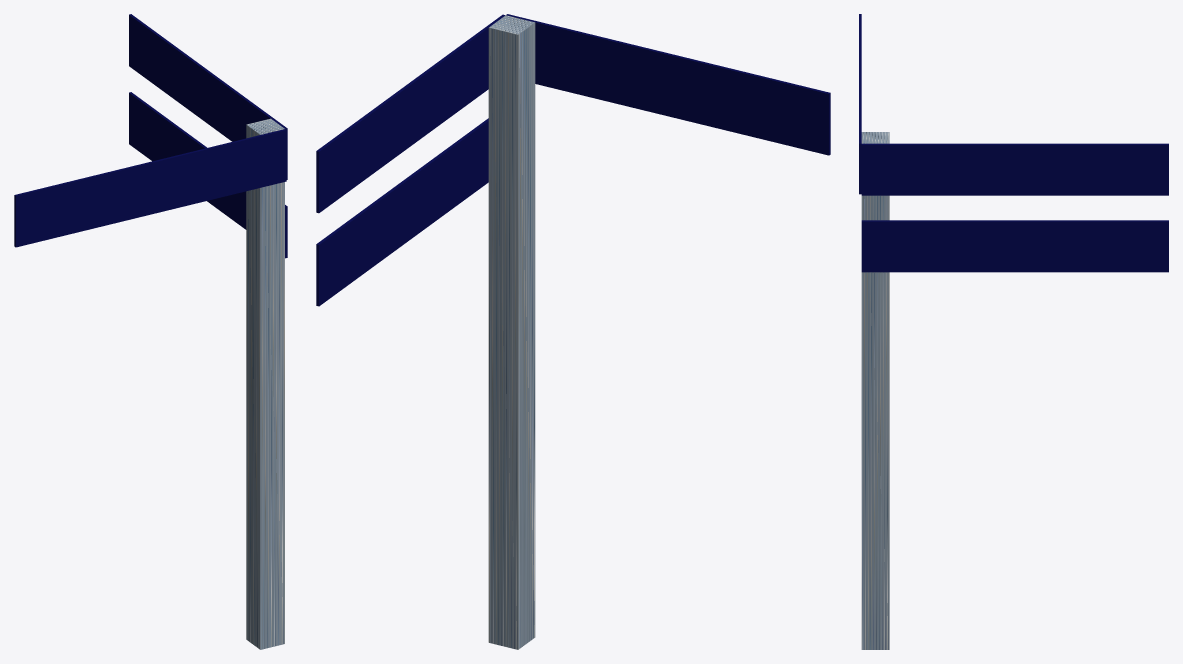
File: plang nama jalan 2-1.fbx
3 views of the same model, side by side, from view 1: azimuth 30°, elevation 25°; view 2: azimuth 150°, elevation 25°; view 3: azimuth 270°, elevation 25° (orthographic). The views are drawn at different scales.
Parts seen in each view (by area): view 1: Cube, Cube.002, Cube.001, Cube.003; view 2: Cube, Cube.002, Cube.001, Cube.003; view 3: Cube.001, Cube.003, Cube, Cube.002.
Part boxes in pixels (x1=…): Cube: x1=246, y1=118, x2=284, y2=649; Cube.002: x1=14, y1=129, x2=286, y2=247; Cube.001: x1=129, y1=14, x2=287, y2=179; Cube.003: x1=129, y1=92, x2=287, y2=258; Cube: x1=488, y1=15, x2=535, y2=649; Cube.002: x1=506, y1=14, x2=830, y2=155; Cube.001: x1=316, y1=14, x2=505, y2=213; Cube.003: x1=316, y1=118, x2=488, y2=306; Cube.001: x1=861, y1=143, x2=1168, y2=195; Cube.003: x1=861, y1=220, x2=1168, y2=272; Cube: x1=861, y1=132, x2=889, y2=649; Cube.002: x1=859, y1=14, x2=861, y2=194.
Bounding box in the file's own units: 0.7538 × 1.36 × 0.7538.
